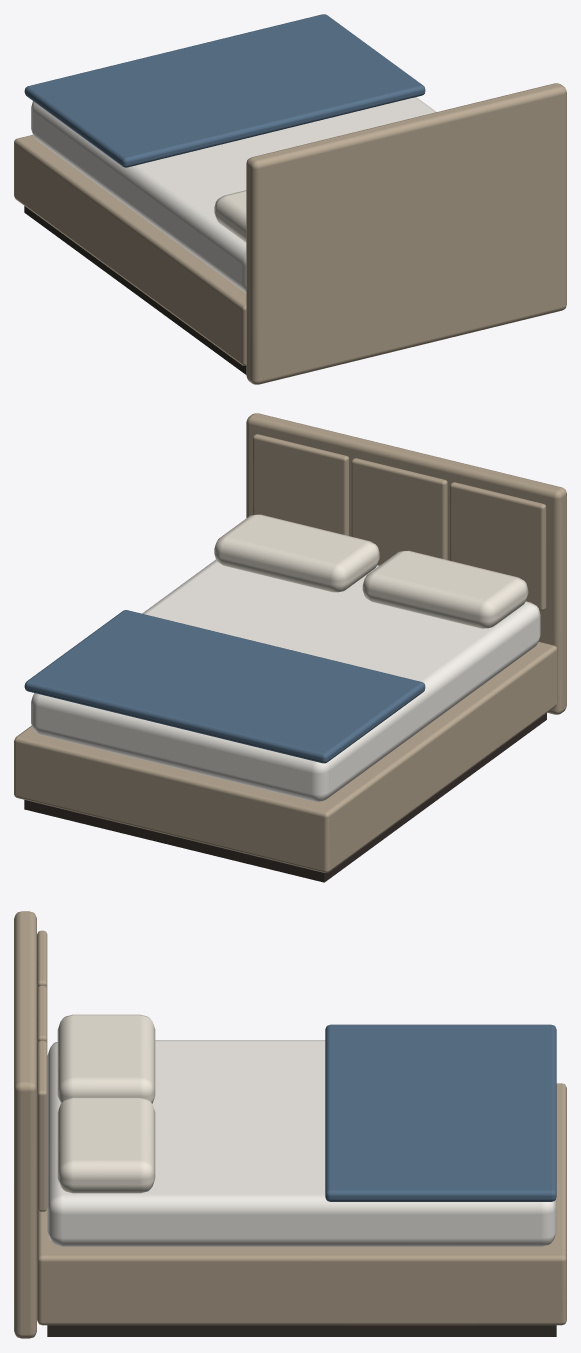
3 views of the same model, one above another, from view 1: azimuth 30°, elevation 25°; view 2: azimuth 150°, elevation 25°; view 3: azimuth 270°, elevation 25° (orthographic). The views are drawn at different scales.
Parts seen in each view (by area): view 1: headboard, blanket, mattress, base, plinth, pillow-1; view 2: mattress, base, blanket, headboard, pillow-1, pillow-2, headboard-panel-1, headboard-panel-2, headboard-panel-3, plinth; view 3: mattress, base, blanket, headboard, pillow-2, pillow-1, plinth, headboard-panel-3, headboard-panel-1, headboard-panel-2.
Part boxes in pixels (left/top/right/bottom): headboard: left=246, top=83, right=566, bottom=384; blanket: left=24, top=14, right=425, bottom=167; mattress: left=31, top=97, right=436, bottom=292; base: left=14, top=135, right=246, bottom=365; plinth: left=24, top=206, right=246, bottom=374; pillow-1: left=214, top=190, right=246, bottom=242; mattress: left=31, top=559, right=540, bottom=801; base: left=14, top=642, right=557, bottom=872; blanket: left=24, top=610, right=425, bottom=763; headboard: left=246, top=413, right=566, bottom=714; pillow-1: left=362, top=550, right=528, bottom=628; pillow-2: left=214, top=514, right=379, bottom=592; headboard-panel-1: left=450, top=482, right=546, bottom=610; headboard-panel-2: left=351, top=458, right=447, bottom=565; headboard-panel-3: left=252, top=434, right=349, bottom=535; plinth: left=24, top=713, right=546, bottom=882; mattress: left=47, top=1040, right=556, bottom=1246; base: left=37, top=1083, right=566, bottom=1325; blanket: left=325, top=1024, right=556, bottom=1201; headboard: left=14, top=911, right=36, bottom=1338; pillow-2: left=57, top=1097, right=155, bottom=1193; pillow-1: left=57, top=1014, right=155, bottom=1103; plinth: left=47, top=1325, right=556, bottom=1336; headboard-panel-3: left=37, top=1040, right=47, bottom=1211; headboard-panel-1: left=37, top=930, right=47, bottom=988; headboard-panel-2: left=37, top=985, right=47, bottom=1043.
Size of the model in its own units: 1.62 by 1.1 by 2.15.
